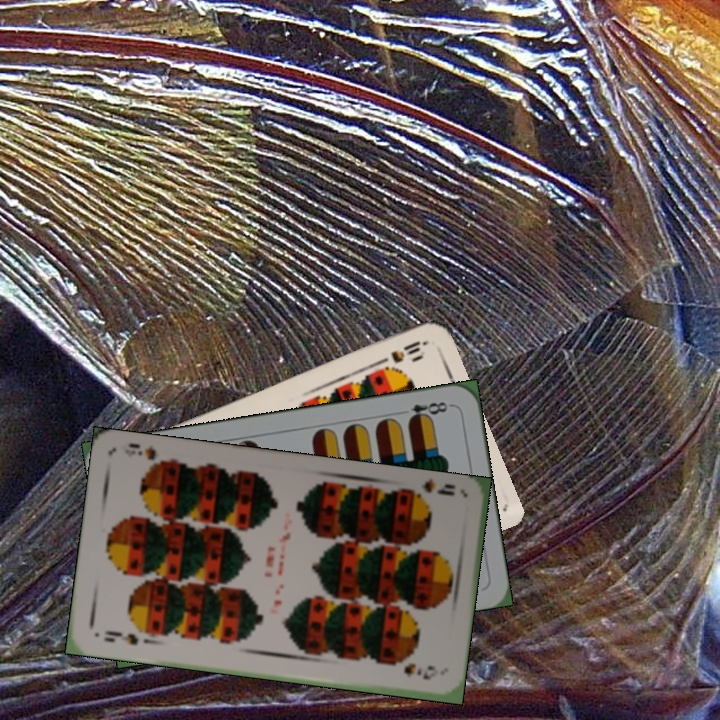E8: (404, 398, 454, 425)
S10: (373, 336, 429, 368)
S9: (404, 477, 459, 502), (100, 626, 141, 648)
